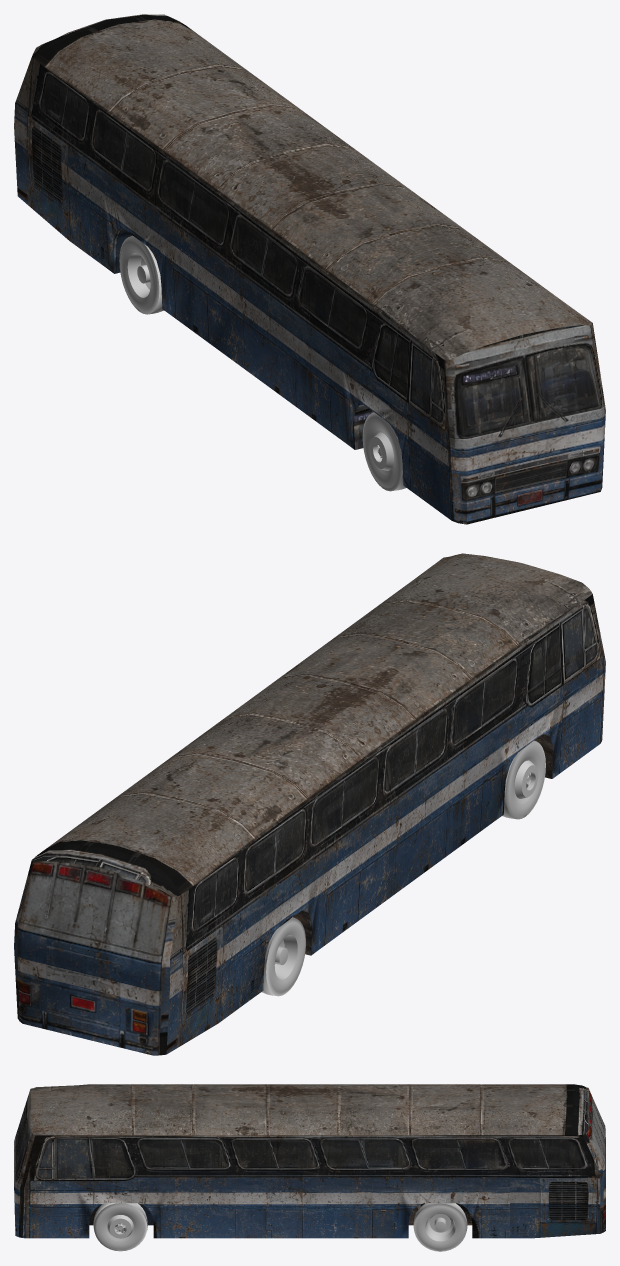
The model's file is Bus01.fbx.
3 renders of one model, top to bottom at view 1: azimuth 30°, elevation 25°; view 2: azimuth 150°, elevation 25°; view 3: azimuth 270°, elevation 25°, orthographic. The views are drawn at different scales.
Parts seen in each view (by area): view 1: BusBody; view 2: BusBody; view 3: BusBody.
Part boxes in pixels (box(x1,y1,x2,y2)): BusBody: box(14, 14, 605, 524); BusBody: box(14, 553, 605, 1055); BusBody: box(14, 1084, 605, 1251).
Size of the model in its own units: 1.86 by 2.28 by 9.21.
